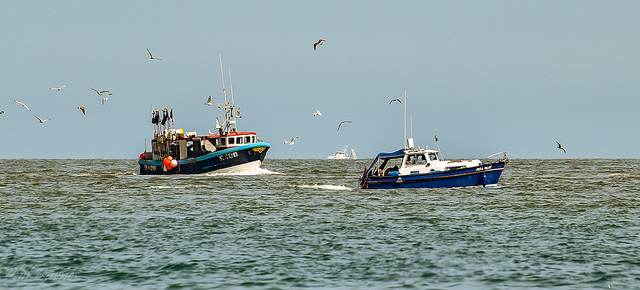boat: (327, 141, 361, 167)
fishing_boat: (138, 50, 271, 179), (361, 86, 508, 192)
